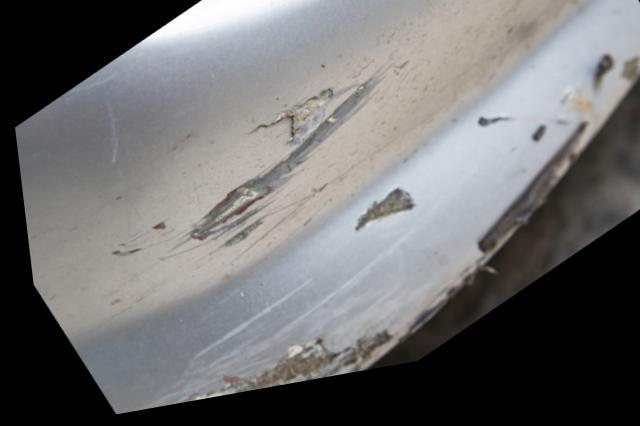scratch: (104, 0, 640, 417)
